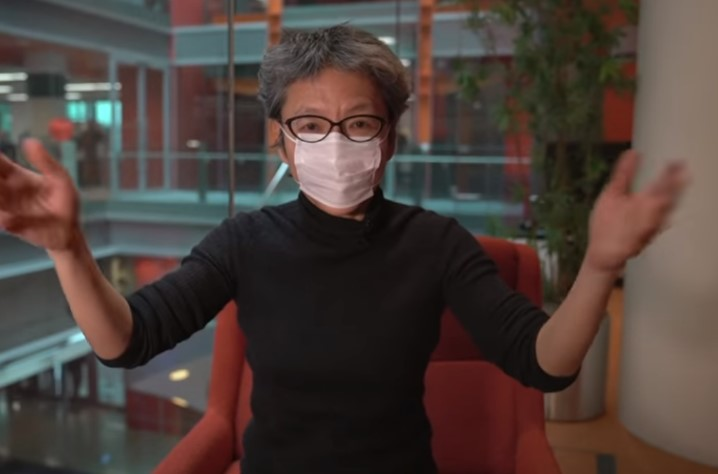face_with_mask: (269, 51, 394, 211)
